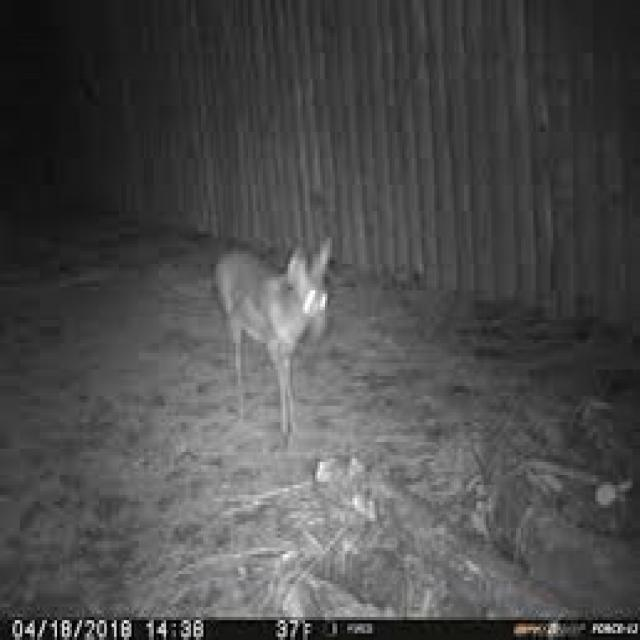elk: (135, 198, 394, 434)
